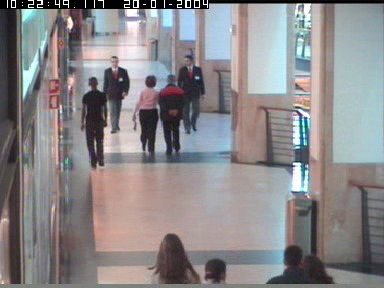person: (147, 232, 201, 284), (80, 76, 107, 167), (157, 73, 184, 155), (102, 54, 130, 133), (132, 74, 160, 153), (178, 55, 204, 135), (264, 246, 314, 284), (298, 255, 334, 284), (204, 258, 227, 284), (67, 13, 74, 52)
